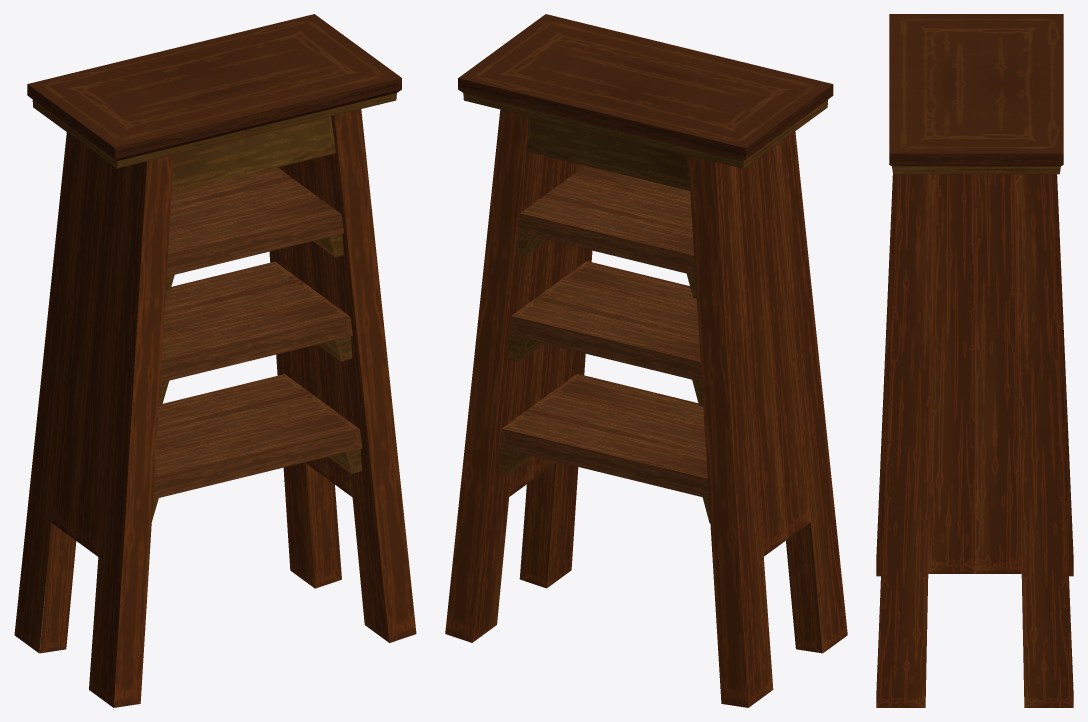
The model's file is nightstand-shelf.glb.
The picture shows the model from 3 angles, left to right: view 1: azimuth 30°, elevation 25°; view 2: azimuth 150°, elevation 25°; view 3: azimuth 270°, elevation 25°; orthographic projection.
Visible parts, largest first — view 1: Nightstand_Shelf; view 2: Nightstand_Shelf; view 3: Nightstand_Shelf.
Part boxes in pixels (x1,y1,x2,y2): Nightstand_Shelf: (14,14,416,707); Nightstand_Shelf: (445,14,847,707); Nightstand_Shelf: (876,14,1073,707).
Size of the model in its own units: 0.6933 by 1.22 by 0.3935.
1 material, 1 textured.
